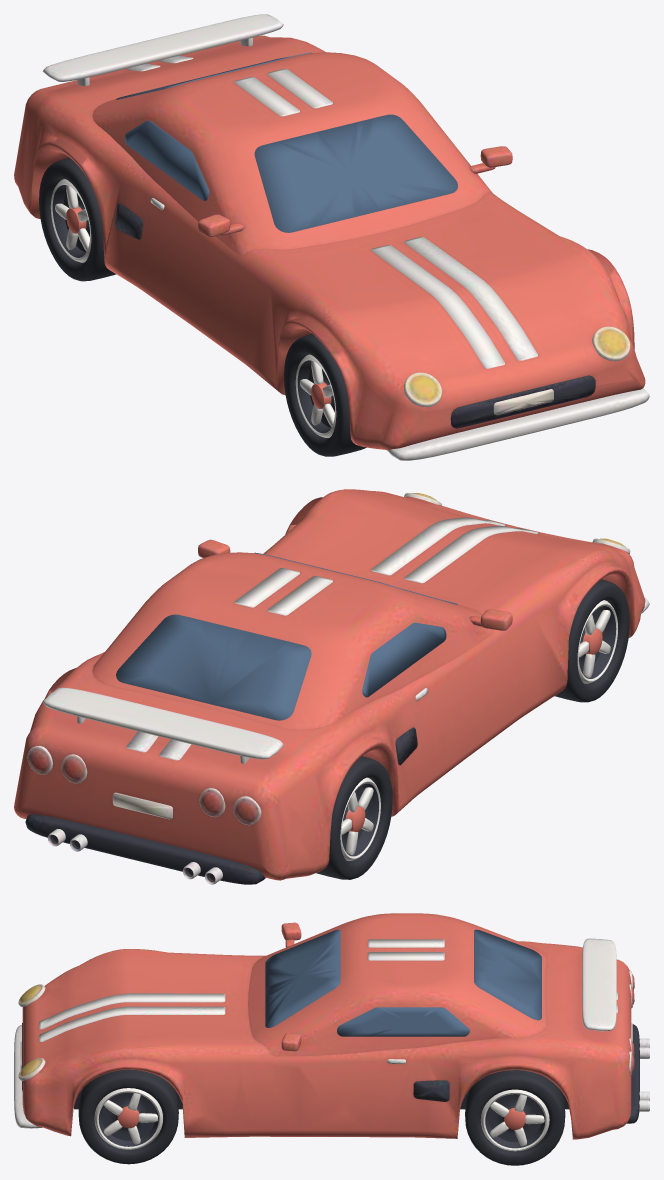
Rendered from sports.glb.
3 views of the same model, one above another, from view 1: azimuth 30°, elevation 25°; view 2: azimuth 150°, elevation 25°; view 3: azimuth 270°, elevation 25° (orthographic). The views are drawn at different scales.
Visible parts, largest first — view 1: sports-car_body, sports-car_windows, sports-car_wheel_fr, sports-car_wheel_rr; view 2: sports-car_body, sports-car_windows, sports-car_wheel_rr, sports-car_wheel_fr; view 3: sports-car_body, sports-car_windows, sports-car_wheel_rl, sports-car_wheel_fl.
Boxes of the visible parts, <box> form: sports-car_body: <box>14,14,649,460</box>; sports-car_windows: <box>116,52,457,232</box>; sports-car_wheel_fr: <box>284,333,366,456</box>; sports-car_wheel_rr: <box>39,157,115,281</box>; sports-car_body: <box>14,489,649,884</box>; sports-car_windows: <box>116,552,457,720</box>; sports-car_wheel_rr: <box>316,756,392,879</box>; sports-car_wheel_fr: <box>554,579,629,702</box>; sports-car_body: <box>14,913,649,1139</box>; sports-car_windows: <box>265,929,541,1036</box>; sports-car_wheel_rl: <box>465,1070,565,1165</box>; sports-car_wheel_fl: <box>78,1069,178,1164</box>.
Size of the model in its own units: 1.97 by 1.22 by 4.38.
6 materials, 1 textured.
